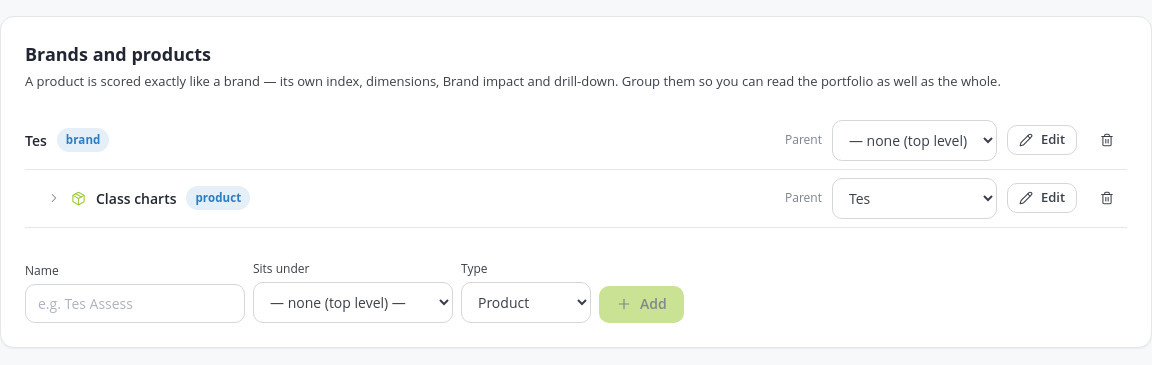
Test case: deleting › does NOT delete on the first click
Expected: the list item "Class charts" is shown, [96,188,176,208]
Click the button named "Delete" in the row of "Class charts": click(1107, 198) [1087,178,1127,218]
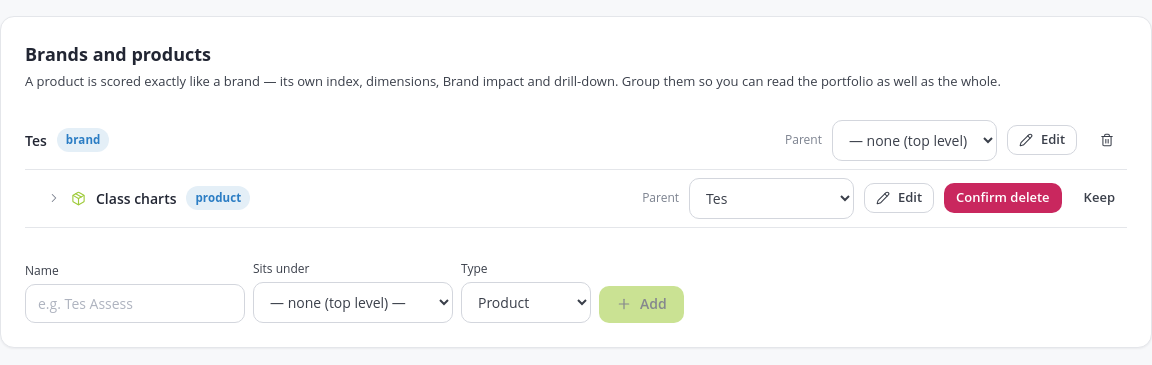
Result: the button "Confirm delete" is shown at [944,183,1062,213]
